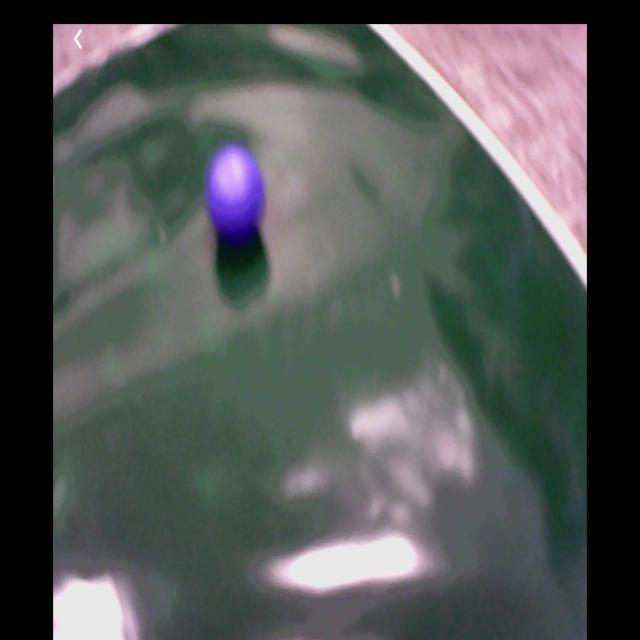ball: (207, 146, 265, 239)
